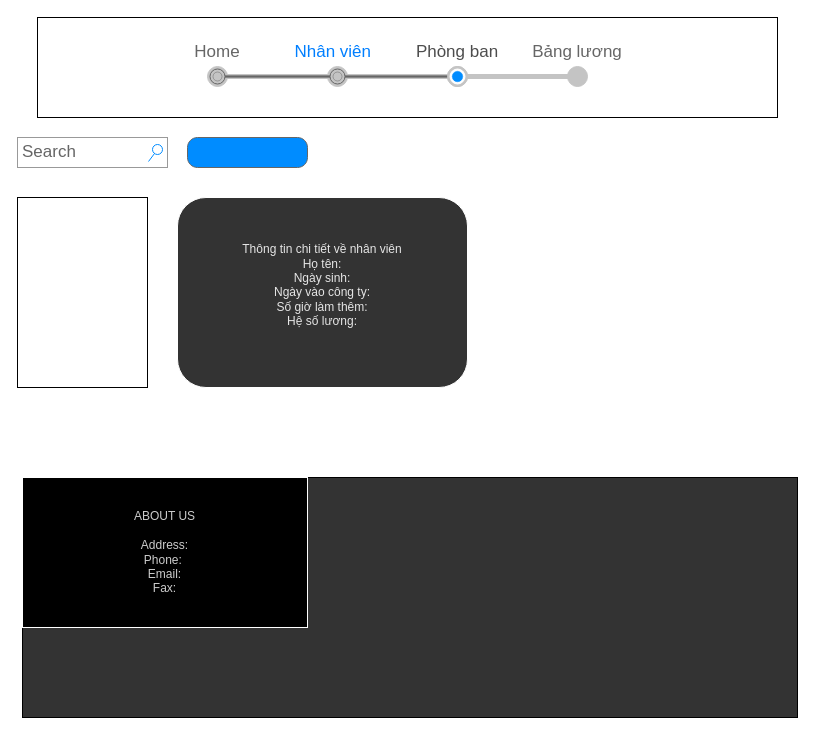
Image size: 815x735. Some labels were removed from this diagram. The box of each missing label's shape, as (x1, y1, x2, y2) in pixels:
Tìm kiếm: (186, 136, 308, 168)
Ảnh nhân viên: (16, 196, 148, 388)
